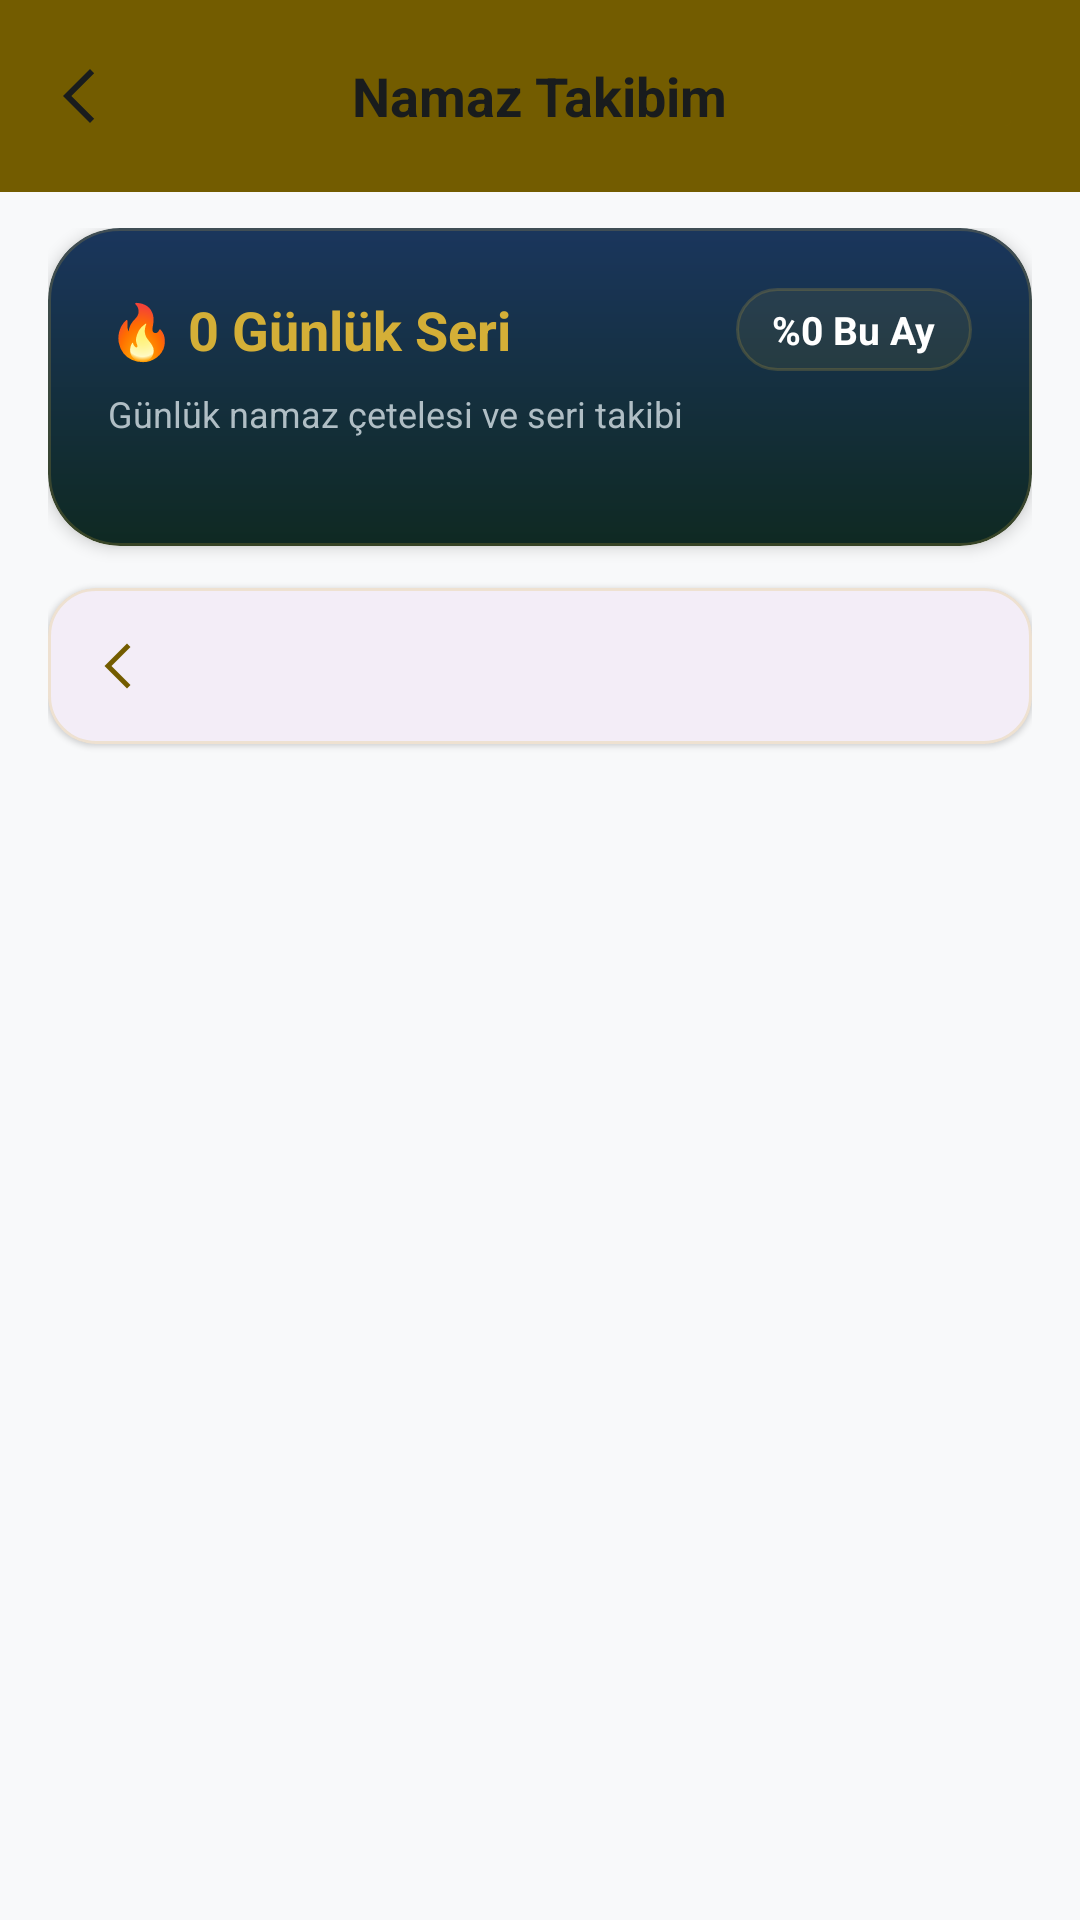

Named icons in this screenshot (1080 × 1920) and their bounding boxes, (x1, y1, x2, y2):
back arrow: (63, 69, 94, 123), (104, 643, 131, 689)
